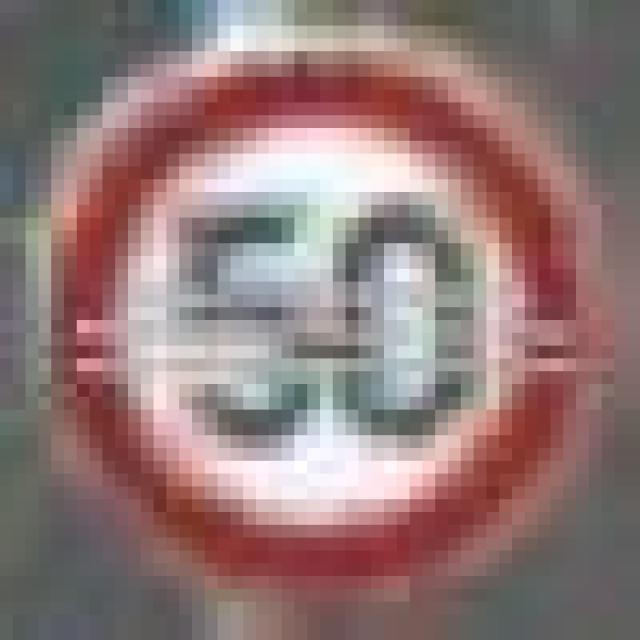speed_limit_30: (38, 26, 576, 576)
